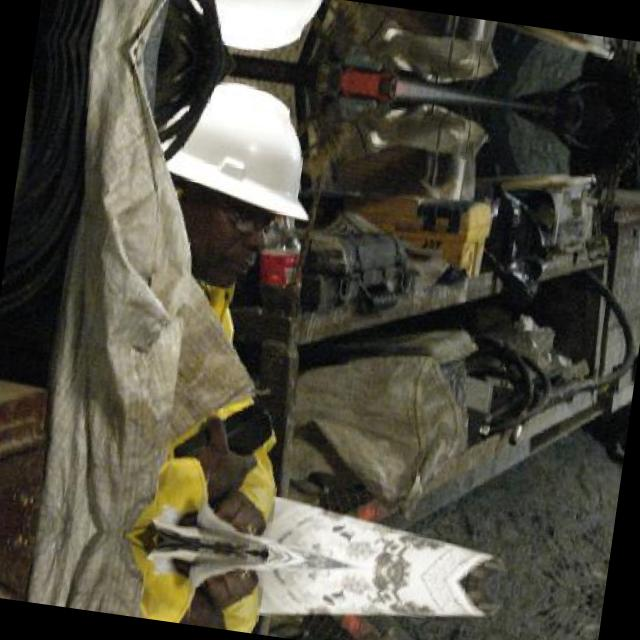helmet: (120, 55, 334, 339), (155, 0, 346, 81)
